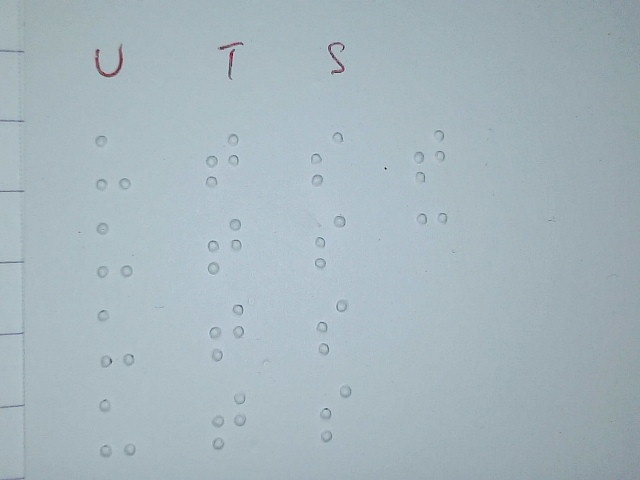S: (309, 129, 346, 187), (318, 383, 353, 444), (312, 212, 347, 270), (315, 298, 350, 356)
T: (208, 302, 246, 362), (209, 390, 247, 450), (204, 131, 241, 189), (206, 216, 243, 274)
U: (96, 307, 137, 369), (97, 396, 138, 458), (93, 133, 132, 191), (95, 220, 134, 278)
